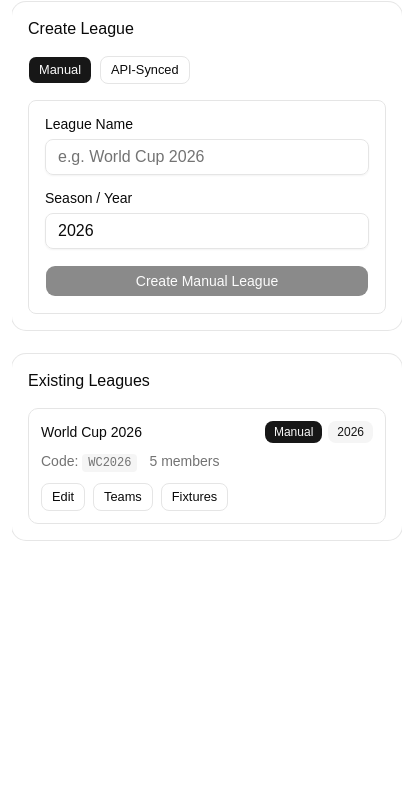
Test case: AdminLeaguesPage › shows Edit button that opens edit form
What coordinates should you click on to do the following:
click the button "Edit"
I would click on:
 (63, 497)
Its box is [41, 483, 85, 511].
(page scrolled)
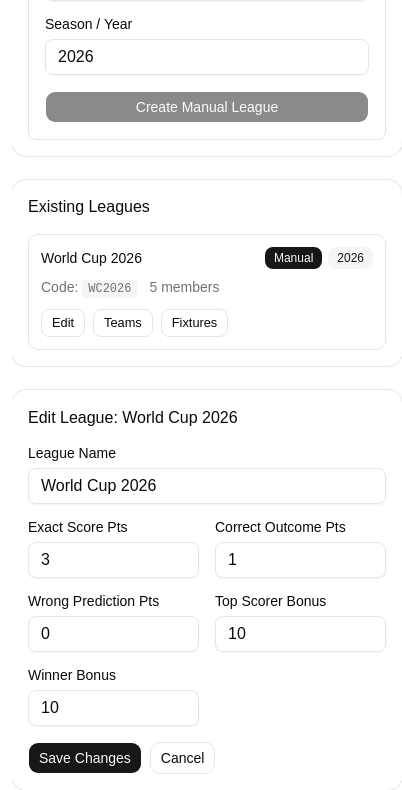
Expected: the text "Edit League: World Cup 2026" is shown, [28, 409, 238, 426]
Expected: the number field labelled "Exact Score Pts" holds "3", [28, 542, 199, 578]
Expected: the number field labelled "Correct Outcome Pts" holds "1", [215, 542, 386, 578]
